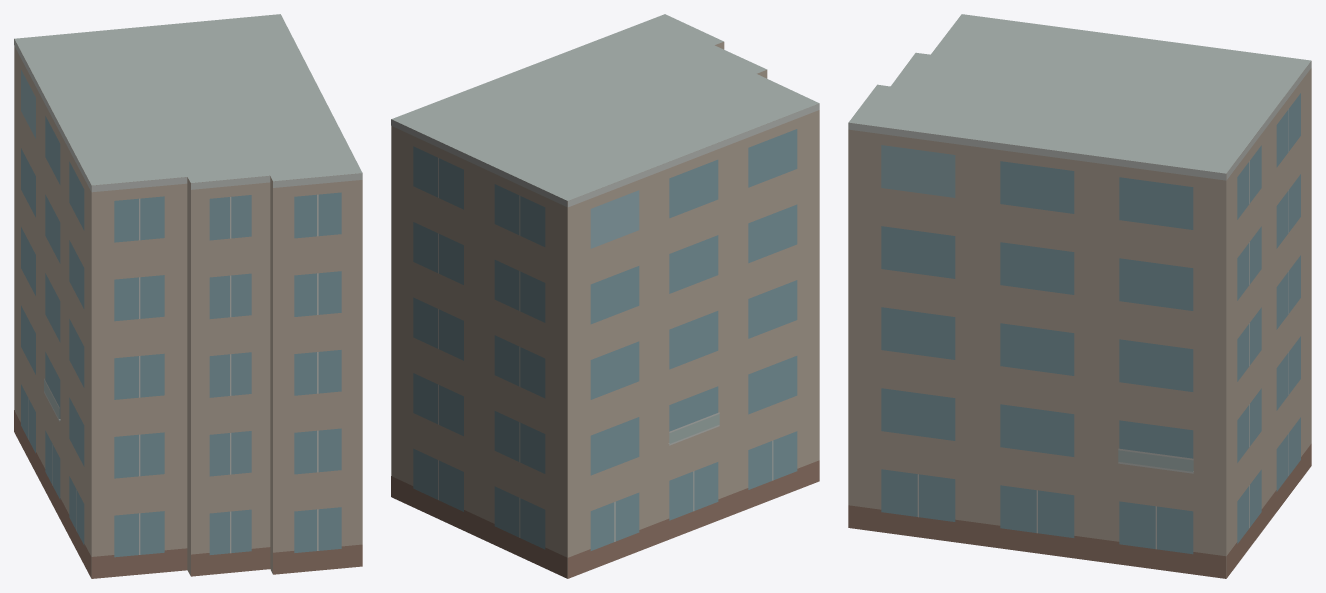
The model's file is survey-upis-32899736.glb.
The picture shows the model from 3 angles, left to right: view 1: azimuth 30°, elevation 25°; view 2: azimuth 150°, elevation 25°; view 3: azimuth 270°, elevation 25°; orthographic projection. The views are drawn at different scales.
Visible parts, largest first — view 1: survey-upis-32899736.tmp; view 2: survey-upis-32899736.tmp; view 3: survey-upis-32899736.tmp.
Part boxes in pixels (<box>): survey-upis-32899736.tmp: <box>14,14,362,578</box>; survey-upis-32899736.tmp: <box>391,14,819,578</box>; survey-upis-32899736.tmp: <box>848,14,1311,578</box>.
Size of the model in its own units: 12.01 by 14.2 by 14.72.
